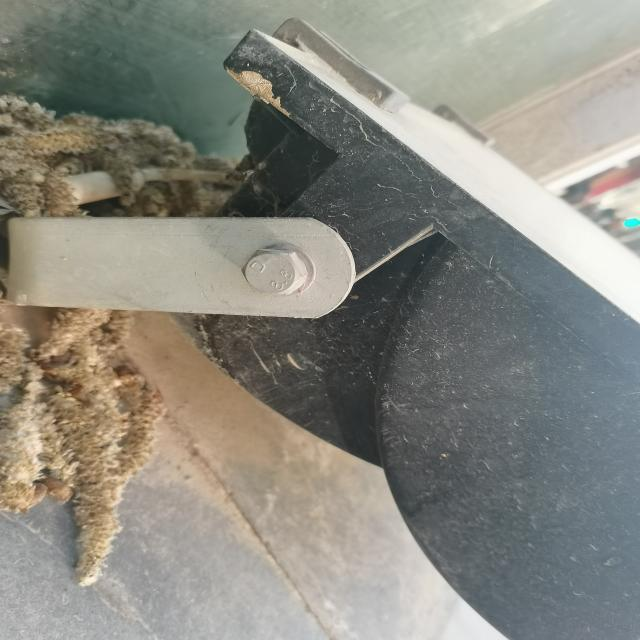bolt head: (239, 248, 310, 298)
